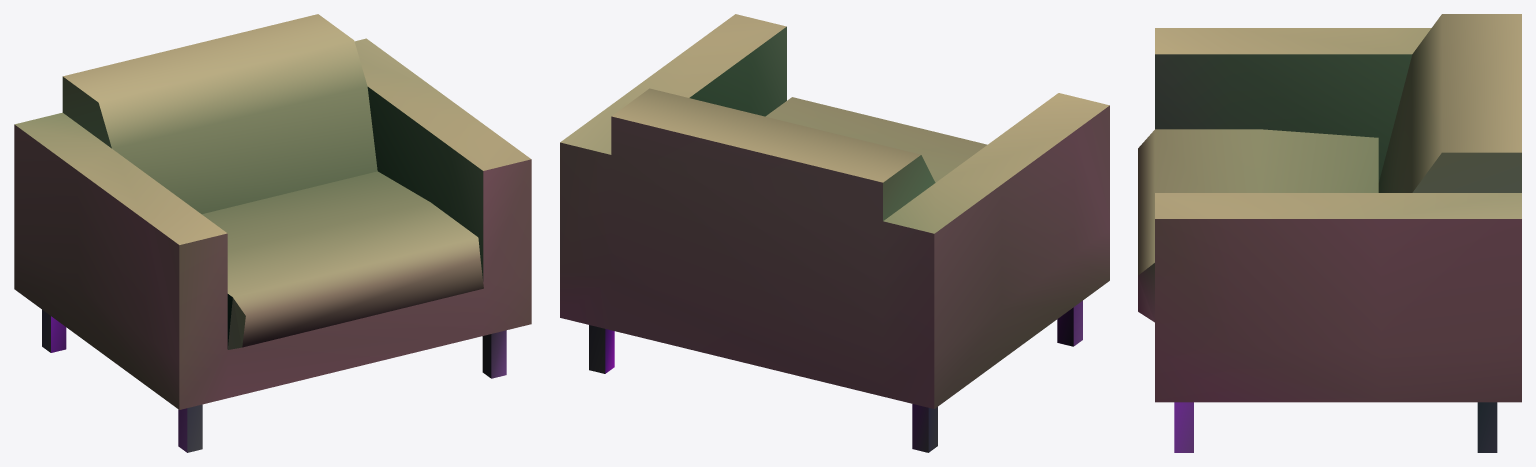
File: white_padded chair.FBX
3 views of the same model, side by side, from view 1: azimuth 30°, elevation 25°; view 2: azimuth 150°, elevation 25°; view 3: azimuth 270°, elevation 25° (orthographic). The views are drawn at different scales.
Parts seen in each view (by area): view 1: white padded chair; view 2: white padded chair; view 3: white padded chair.
Part boxes in pixels (left/top/right/bottom): white padded chair: left=14, top=14, right=531, bottom=452; white padded chair: left=560, top=14, right=1109, bottom=452; white padded chair: left=1138, top=14, right=1521, bottom=452.
Size of the model in its own units: 1.15 by 0.7912 by 0.973.
